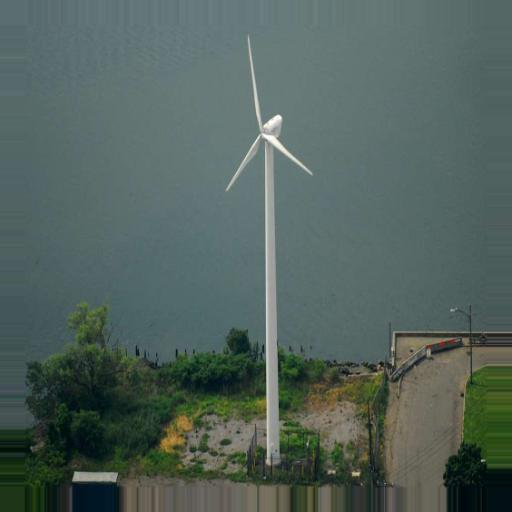wind turbine: (223, 33, 317, 459)
